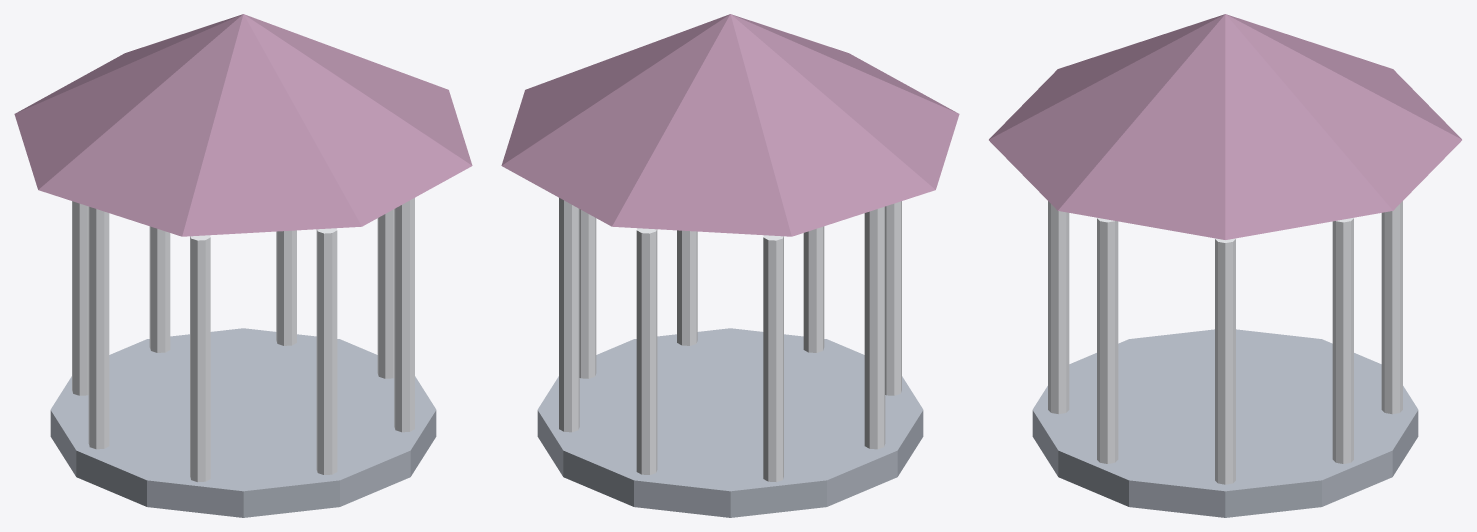
The model's file is gazebo.glb.
3 views of the same model, side by side, from view 1: azimuth 30°, elevation 25°; view 2: azimuth 150°, elevation 25°; view 3: azimuth 270°, elevation 25° (orthographic).
Parts seen in each view (by area): view 1: gazebo_1, gazebo_0, gazebo_4, gazebo_6, gazebo_5, gazebo_3, gazebo_7, gazebo_2, gazebo_8, gazebo_9; view 2: gazebo_1, gazebo_0, gazebo_8, gazebo_6, gazebo_7, gazebo_9, gazebo_5, gazebo_2, gazebo_4, gazebo_3; view 3: gazebo_1, gazebo_0, gazebo_3, gazebo_9, gazebo_2, gazebo_4, gazebo_8.
Part boxes in pixels (<box>): gazebo_1: <box>14,14,472,236</box>; gazebo_0: <box>50,328,436,517</box>; gazebo_4: <box>316,228,337,474</box>; gazebo_6: <box>88,206,109,449</box>; gazebo_5: <box>190,235,210,482</box>; gazebo_3: <box>394,198,414,432</box>; gazebo_7: <box>72,201,88,395</box>; gazebo_2: <box>377,209,394,378</box>; gazebo_8: <box>149,226,170,352</box>; gazebo_9: <box>276,230,296,345</box>; gazebo_1: <box>501,14,959,236</box>; gazebo_0: <box>537,328,923,517</box>; gazebo_8: <box>636,228,657,474</box>; gazebo_6: <box>864,206,885,449</box>; gazebo_7: <box>763,235,783,482</box>; gazebo_9: <box>559,198,579,432</box>; gazebo_5: <box>885,201,901,395</box>; gazebo_2: <box>579,209,596,378</box>; gazebo_4: <box>803,226,824,352</box>; gazebo_3: <box>677,230,697,345</box>; gazebo_1: <box>989,14,1461,239</box>; gazebo_0: <box>1032,329,1418,517</box>; gazebo_3: <box>1097,217,1118,463</box>; gazebo_9: <box>1332,217,1353,463</box>; gazebo_2: <box>1215,238,1235,484</box>; gazebo_4: <box>1048,201,1069,414</box>; gazebo_8: <box>1381,201,1402,414</box>.
Size of the model in its own units: 2.9 by 2.85 by 2.9.
